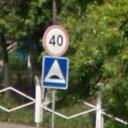speed_limit_40: (42, 24, 72, 56)
